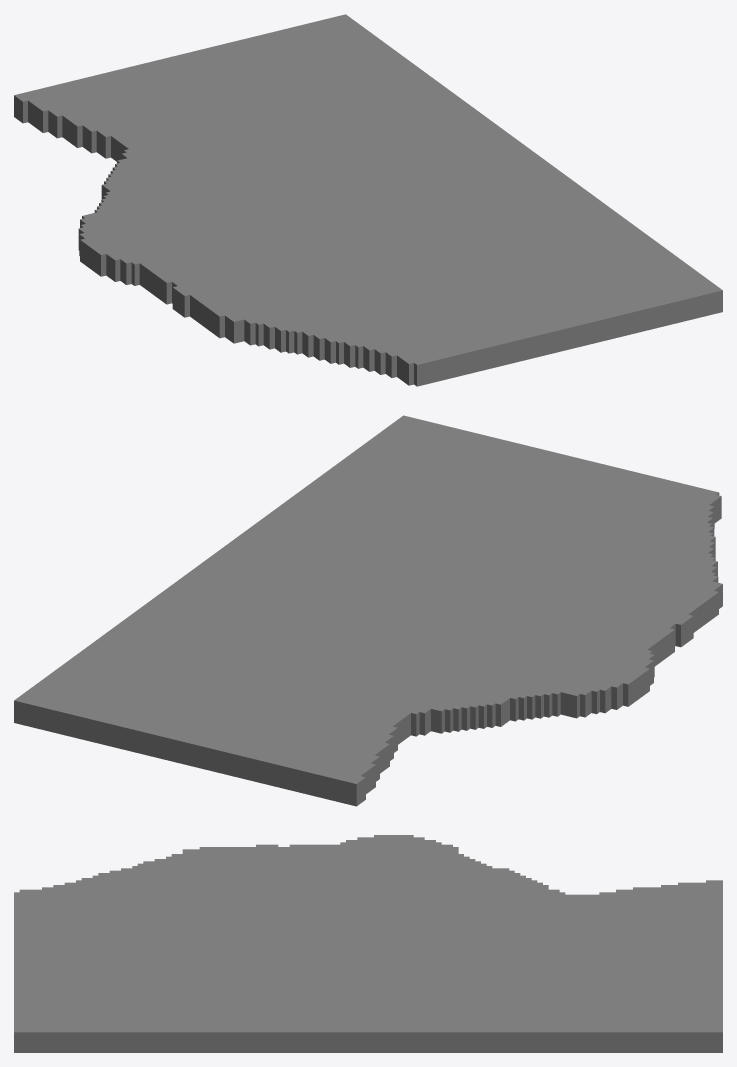
Rendered from Main Island-14.obj.
3 renders of one model, top to bottom at view 1: azimuth 30°, elevation 25°; view 2: azimuth 150°, elevation 25°; view 3: azimuth 270°, elevation 25°, orthographic. The views are drawn at different scales.
Visible parts, largest first — view 1: Main Island-14; view 2: Main Island-14; view 3: Main Island-14.
Boxes of the visible parts, <box> form: Main Island-14: <box>14,14,722,386</box>; Main Island-14: <box>14,415,722,806</box>; Main Island-14: <box>14,835,722,1052</box>.
Bounding box in the file's own units: 83 × 4 × 126.
1 material, 1 textured.
